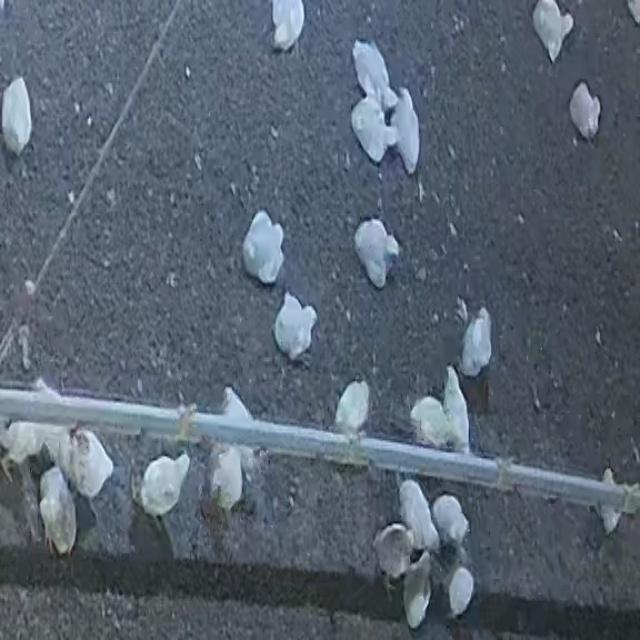chicken: (139, 452, 194, 518), (41, 472, 77, 563), (353, 218, 397, 290), (242, 210, 285, 283), (403, 538, 438, 626), (355, 41, 400, 108), (71, 430, 116, 496), (365, 522, 411, 585), (272, 295, 316, 360), (348, 101, 393, 162), (532, 0, 575, 62), (2, 77, 34, 158), (3, 419, 47, 477), (401, 484, 439, 551), (392, 88, 422, 169), (441, 367, 468, 455), (264, 0, 308, 53), (333, 382, 371, 438), (461, 308, 491, 376), (214, 450, 245, 511), (569, 84, 602, 141), (227, 390, 257, 450), (595, 470, 619, 536), (441, 492, 466, 551), (413, 398, 445, 444), (452, 567, 474, 617)
